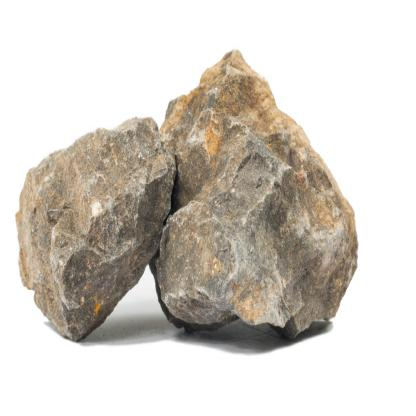Igneous_Basalt: (157, 49, 353, 343), (13, 104, 175, 348)
